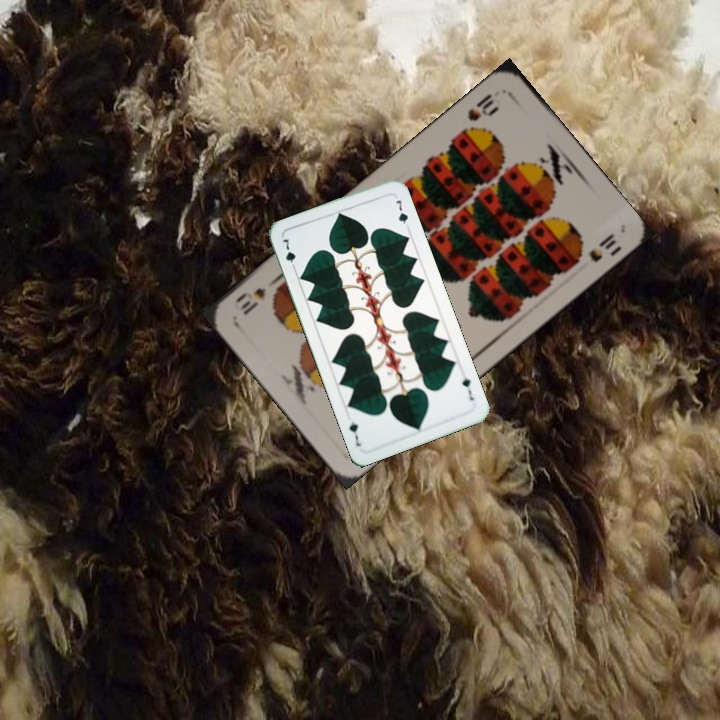G7: (278, 234, 299, 273), (458, 368, 477, 403)
S10: (463, 89, 501, 124)
